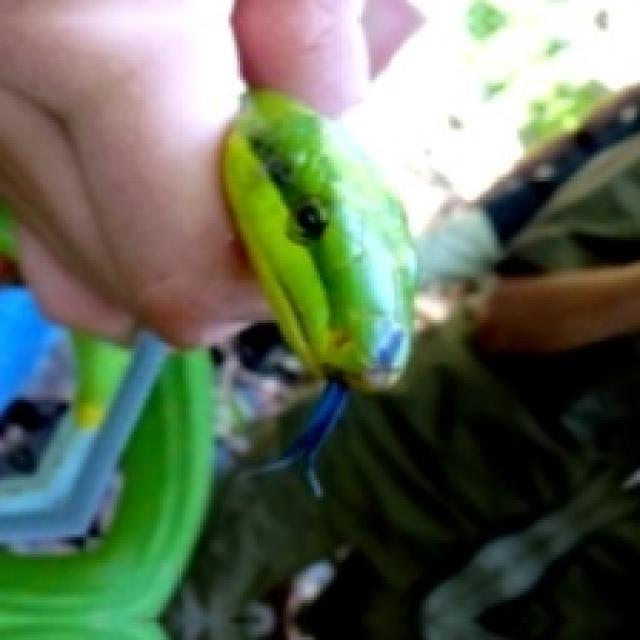red-tailed green ratsnake: (171, 86, 637, 637)
